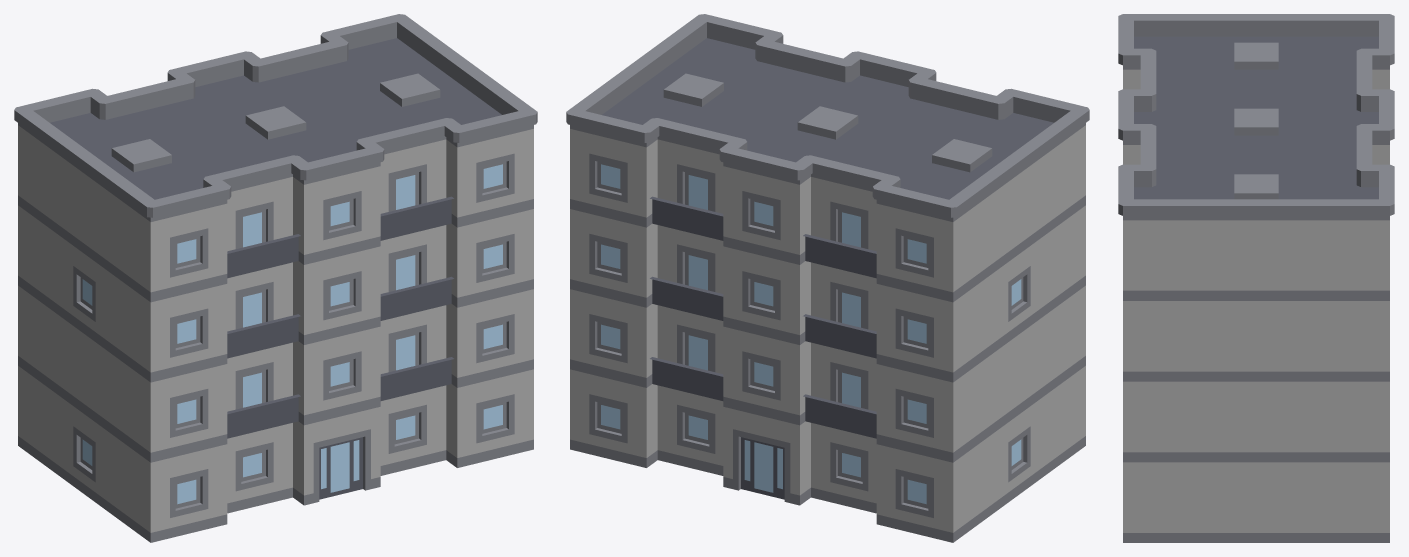
File: large_buildingA.004.obj
3 renders of one model, left to right at view 1: azimuth 30°, elevation 25°; view 2: azimuth 150°, elevation 25°; view 3: azimuth 270°, elevation 25°, orthographic.
Visible parts, largest first — view 1: large_buildingA.002; view 2: large_buildingA.002; view 3: large_buildingA.002.
Part boxes in pixels (x1,y1,x2,y2): large_buildingA.002: (14,14,537,542); large_buildingA.002: (566,14,1089,542); large_buildingA.002: (1118,14,1394,542).
Size of the model in its own units: 37.24 by 30.67 by 22.64.
